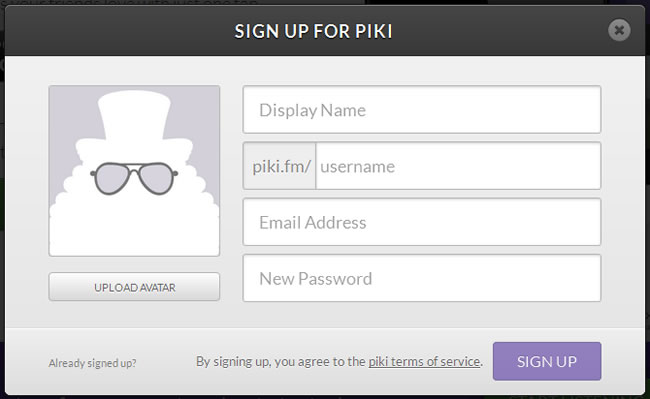button: (48, 272, 222, 302), (492, 341, 602, 381)
field: (242, 84, 602, 135), (242, 197, 602, 247), (242, 254, 602, 303), (314, 141, 603, 191)
